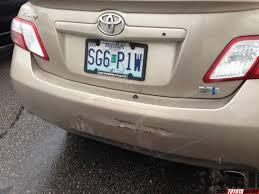rear-bumper-dent: (50, 81, 233, 143)
